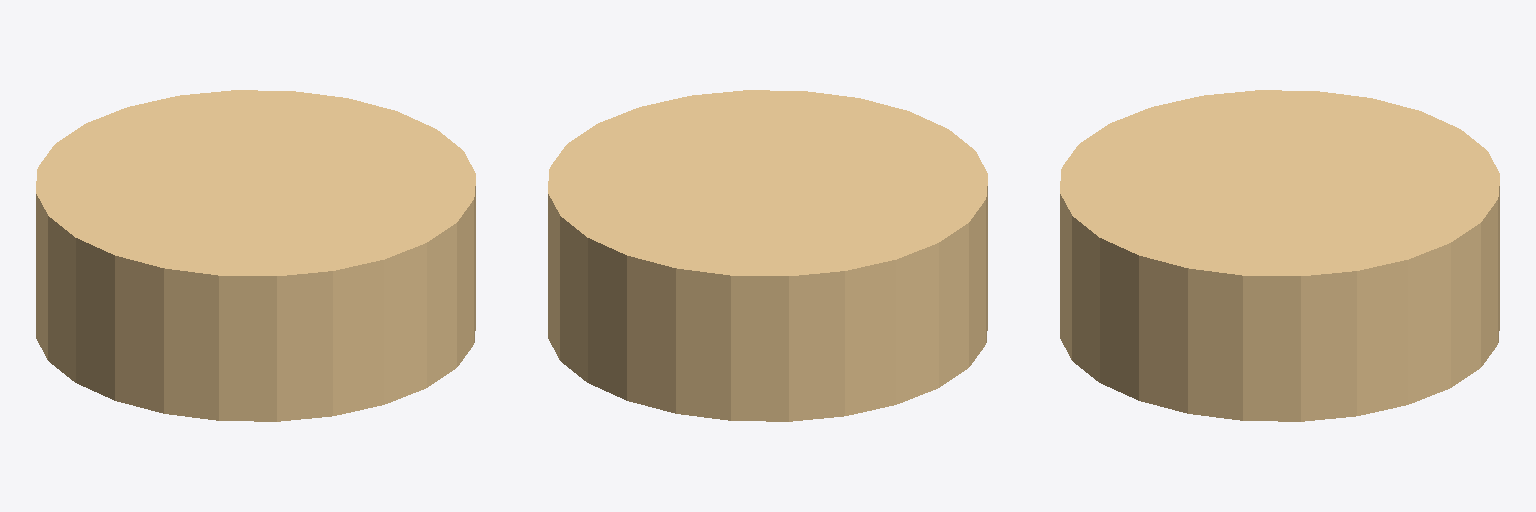
Rendered from blue_circle.obj.
3 views of the same model, side by side, from view 1: azimuth 30°, elevation 25°; view 2: azimuth 150°, elevation 25°; view 3: azimuth 270°, elevation 25° (orthographic).
Visible parts, largest first — view 1: Mesh1 Model; view 2: Mesh1 Model; view 3: Mesh1 Model.
Boxes of the visible parts, <box> form: Mesh1 Model: <box>36,90,475,421</box>; Mesh1 Model: <box>548,90,987,421</box>; Mesh1 Model: <box>1060,90,1499,421</box>.
Bounding box in the file's own units: 0.2106 × 0.0766 × 0.2106.